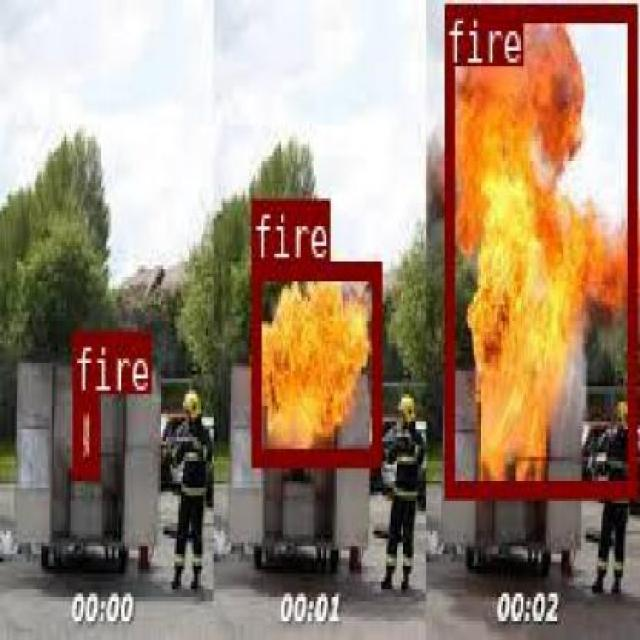Fire: (443, 3, 634, 492), (251, 260, 380, 463), (72, 393, 96, 472)
